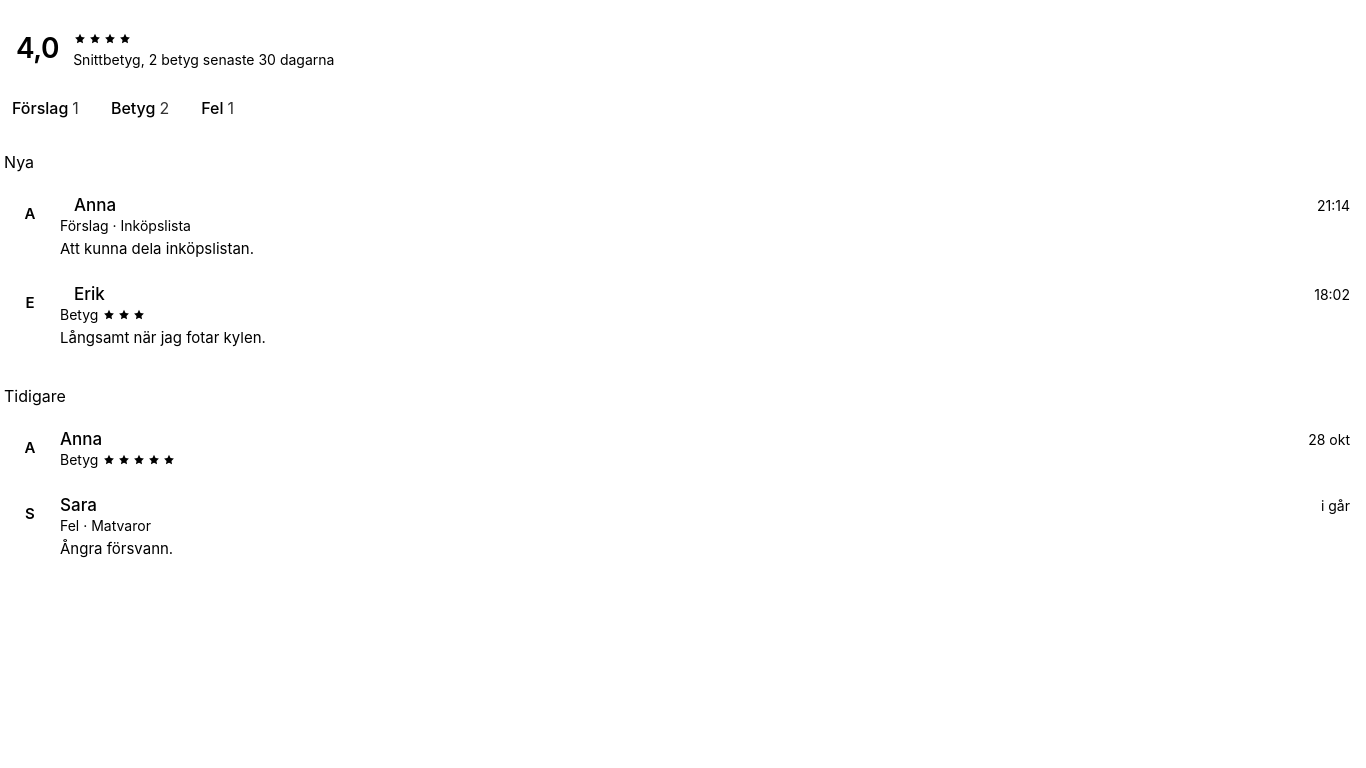
Test: Inbox › puts a message back among Nya and says so when it cannot be marked read
Click the text "Att kunna dela inköpslistan." at (157, 248), box [60,239,254,258]
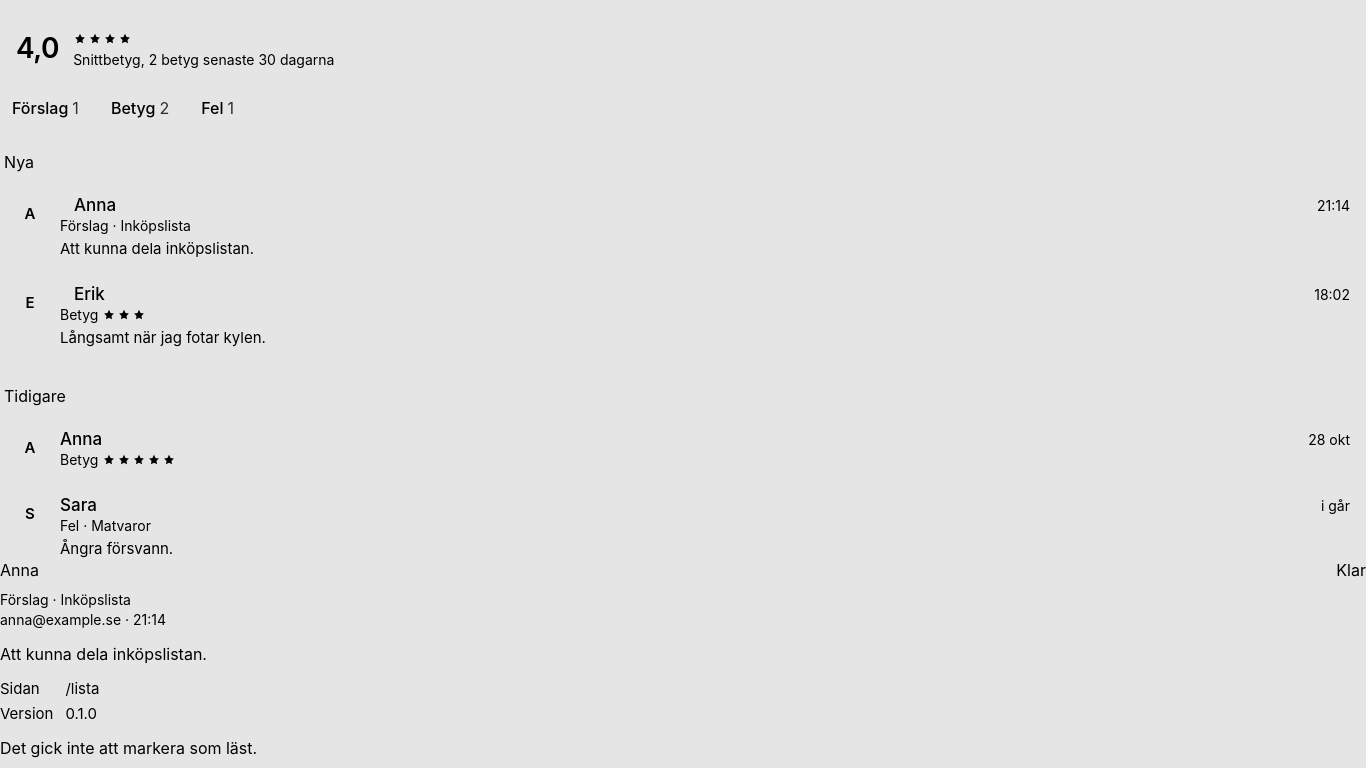
Check: the message reads "Det gick inte att markera som läst.", box [0,738,257,758]
